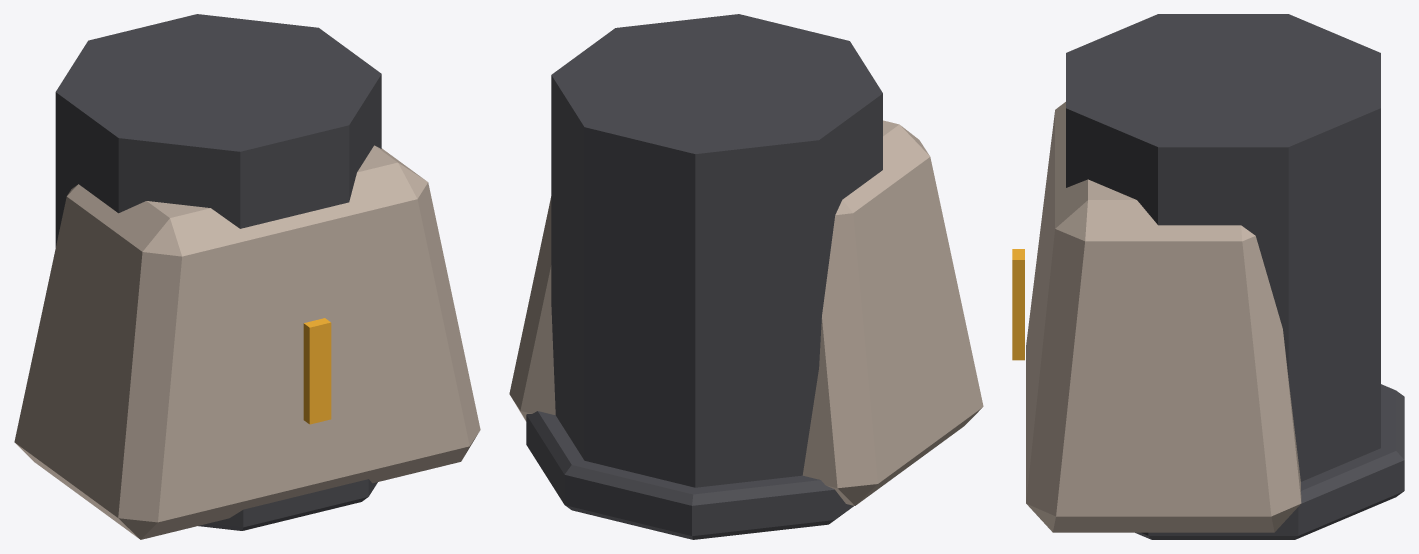
File: forearm_heavy.glb
The picture shows the model from 3 angles, left to right: view 1: azimuth 30°, elevation 25°; view 2: azimuth 150°, elevation 25°; view 3: azimuth 270°, elevation 25°; orthographic projection. The views are drawn at different scales.
Visible parts, largest first — view 1: forearm_heavy; view 2: forearm_heavy; view 3: forearm_heavy.
Boxes of the visible parts, x1,y1,x2,y2 form: forearm_heavy: (14,14,480,539); forearm_heavy: (509,14,983,539); forearm_heavy: (1012,14,1404,539).
Bounding box in the file's own units: 1.02 × 1 × 0.92.
